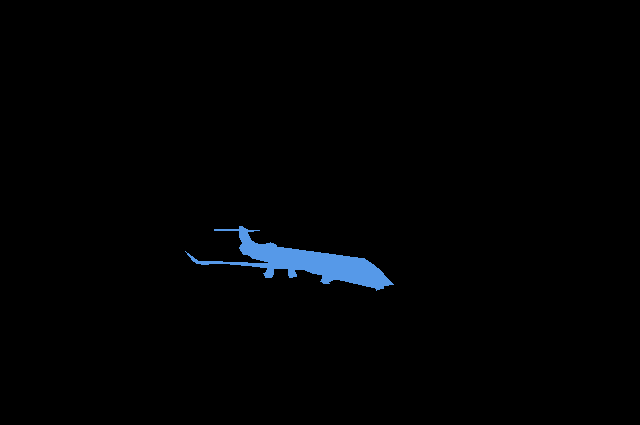Airplane: (185, 226, 393, 290)
